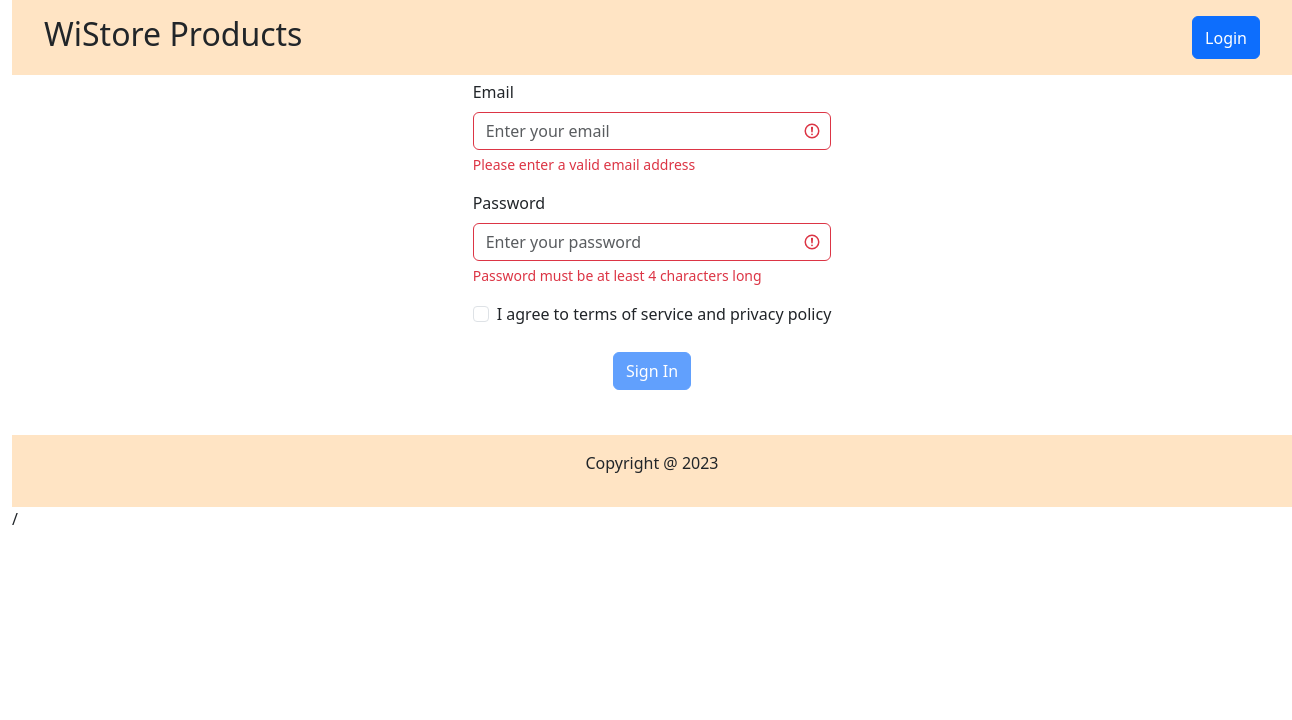
login page › success › button enabled for validated inputs
Type "hande@kar.com" into the field with test id "input-email".
click(653, 131); type("hande@kar.com")  # box [473,112,832,150]
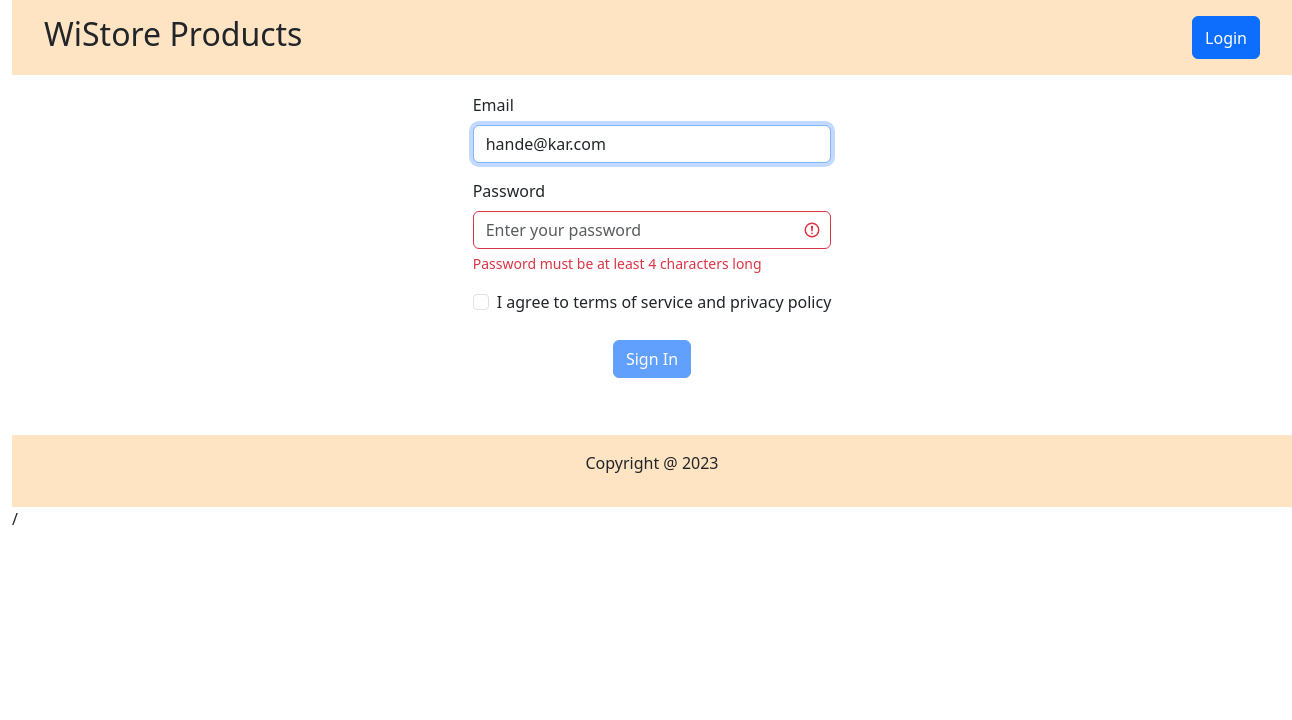
Type "Lol!5" into the password field with test id "input-password".
click(653, 230); type("Lol!5")  # box [473,211,832,249]
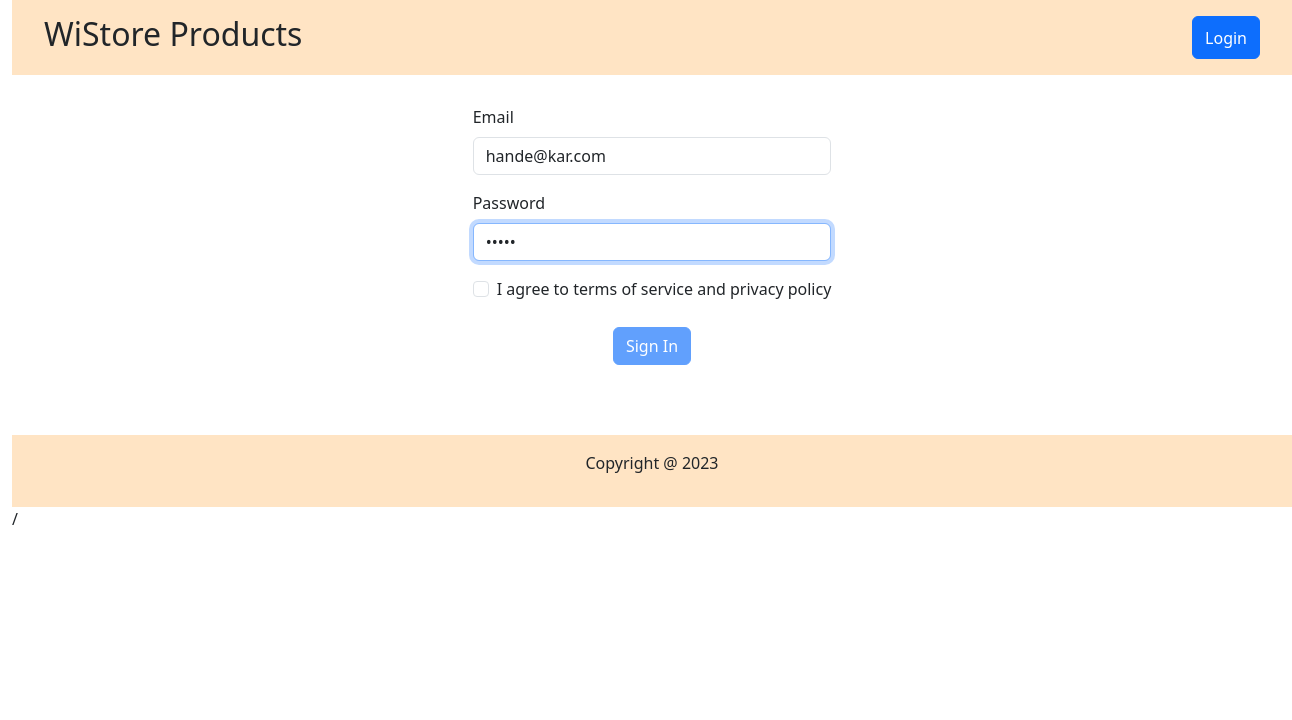
Check the checkbox with test id "input-check".
click(481, 289)  # box [473,281,489,297]
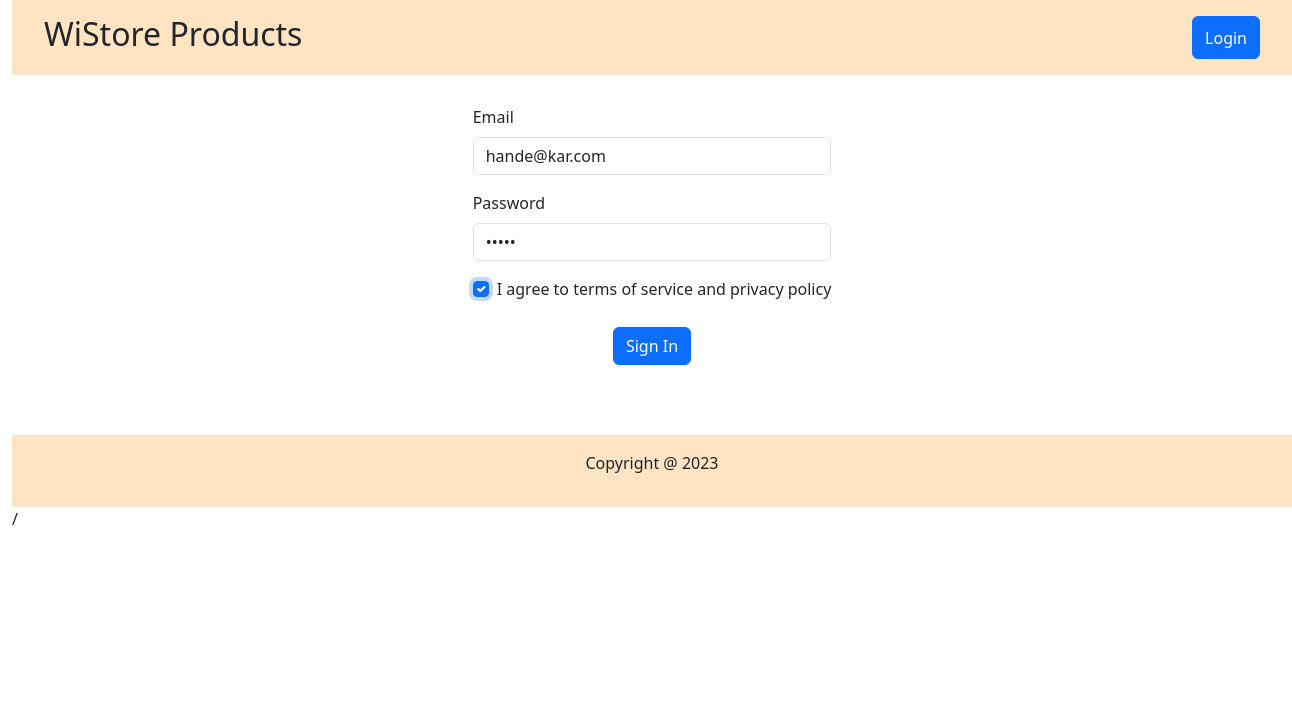
Now the button with test id "input-button" is enabled, box [613,327,691,365]
